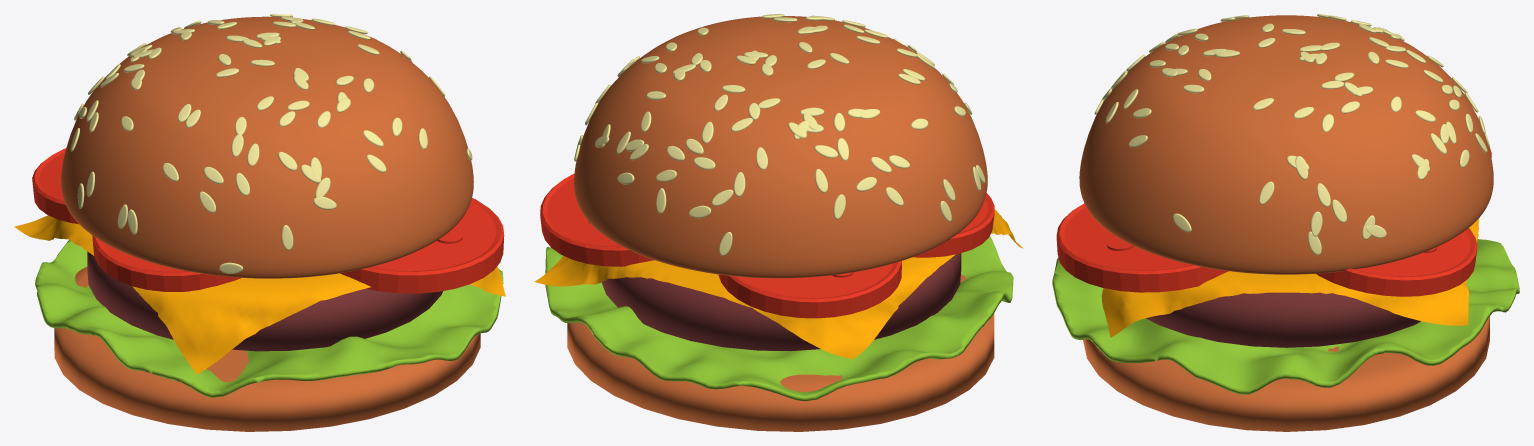
The model's file is Burger.glb.
3 renders of one model, left to right at view 1: azimuth 30°, elevation 25°; view 2: azimuth 150°, elevation 25°; view 3: azimuth 270°, elevation 25°, orthographic.
Parts seen in each view (by area): view 1: bred up.001, bred down.001, green .002, Plane.003, meat.001, tomato.004, tomato.005, tomato.006; view 2: bred up.001, green .002, bred down.001, meat.001, Plane.003, tomato.006, tomato.007, tomato.005; view 3: bred up.001, green .002, bred down.001, meat.001, Plane.003, tomato.004, tomato.007.
Part boxes in pixels (x1=…): bred up.001: x1=61, y1=14, x2=473, y2=278; bred down.001: x1=54, y1=267, x2=480, y2=431; green .002: x1=35, y1=240, x2=503, y2=397; Plane.003: x1=14, y1=215, x2=505, y2=374; meat.001: x1=87, y1=251, x2=442, y2=351; tomato.004: x1=340, y1=198, x2=504, y2=293; tomato.005: x1=92, y1=235, x2=240, y2=291; tomato.006: x1=32, y1=148, x2=78, y2=223; bred up.001: x1=574, y1=14, x2=987, y2=278; green .002: x1=545, y1=236, x2=1013, y2=401; bred down.001: x1=567, y1=274, x2=994, y2=431; meat.001: x1=601, y1=253, x2=961, y2=351; Plane.003: x1=534, y1=209, x2=1023, y2=359; tomato.006: x1=718, y1=261, x2=901, y2=318; tomato.007: x1=540, y1=173, x2=654, y2=266; tomato.005: x1=913, y1=193, x2=994, y2=257; bred up.001: x1=1079, y1=14, x2=1493, y2=274; green .002: x1=1052, y1=239, x2=1519, y2=394; bred down.001: x1=1083, y1=316, x2=1489, y2=431; meat.001: x1=1146, y1=292, x2=1420, y2=347; Plane.003: x1=1101, y1=218, x2=1478, y2=337; tomato.004: x1=1056, y1=203, x2=1228, y2=292; tomato.007: x1=1316, y1=228, x2=1477, y2=296.
Size of the model in its own units: 2.71 by 1.9 by 2.73.
